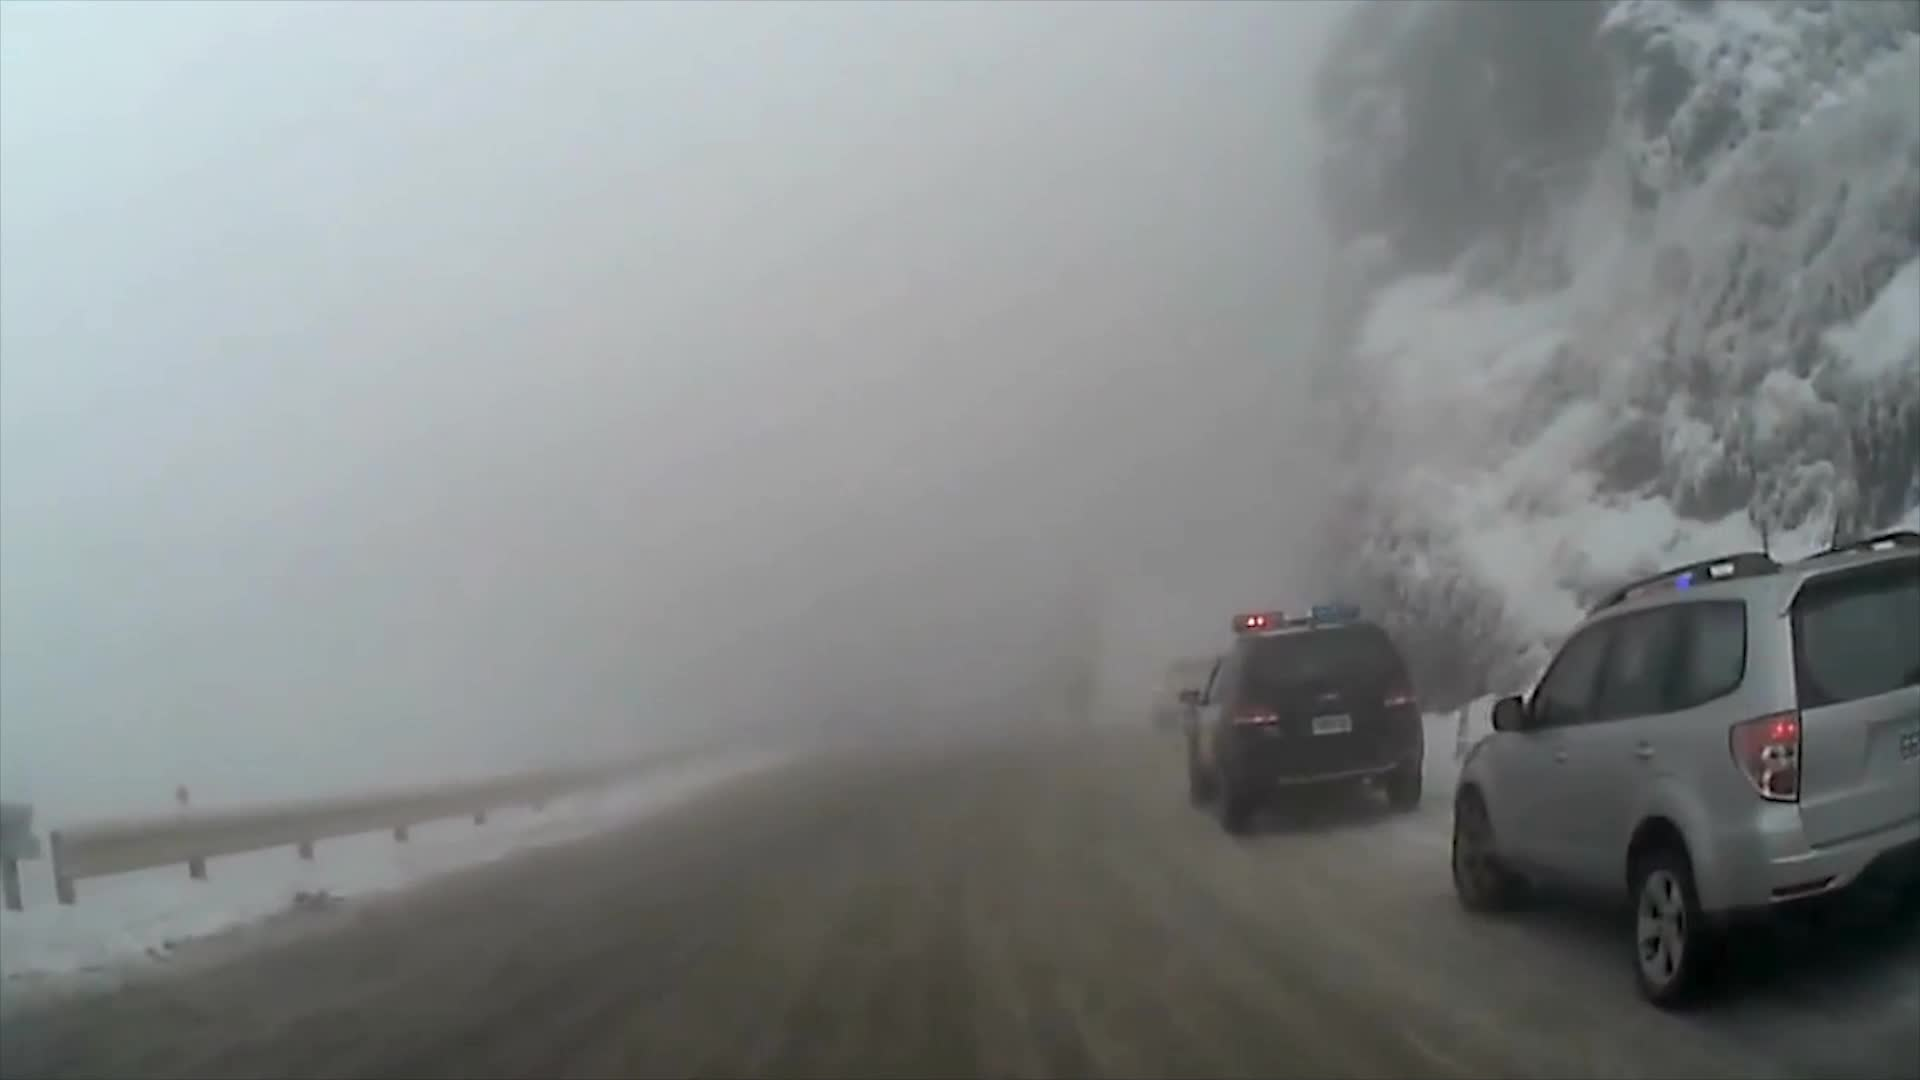vehicle: (1451, 524, 1920, 1007), (1178, 599, 1423, 836)
